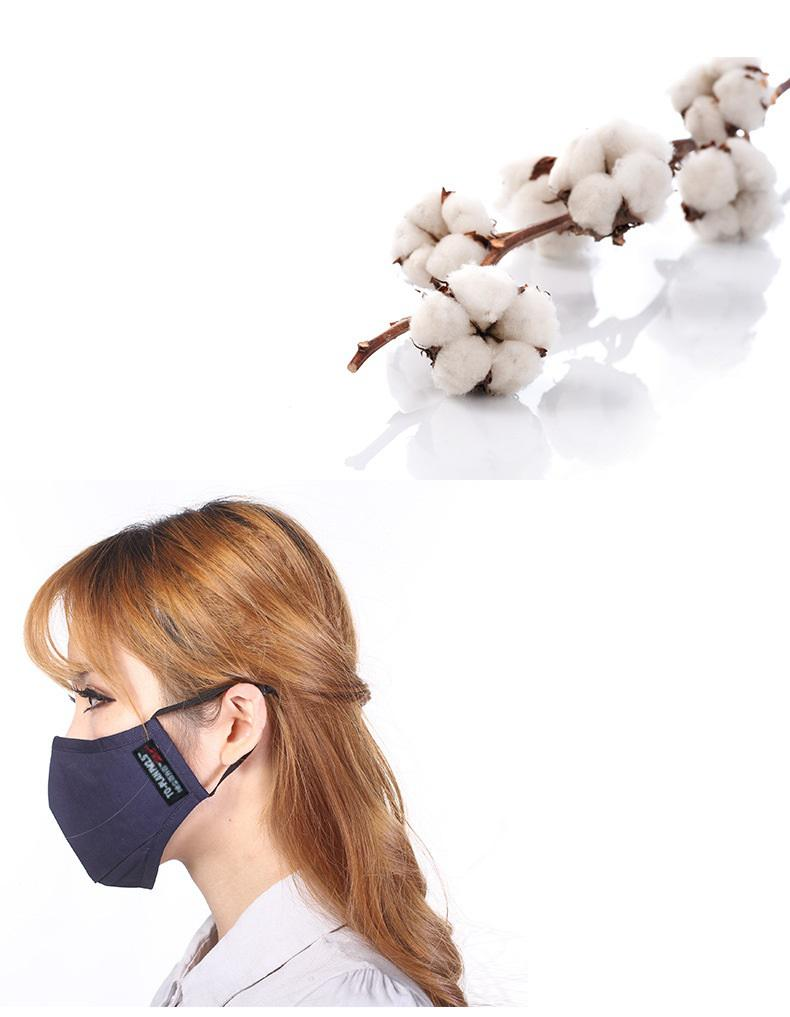OK: (32, 659, 258, 885)
